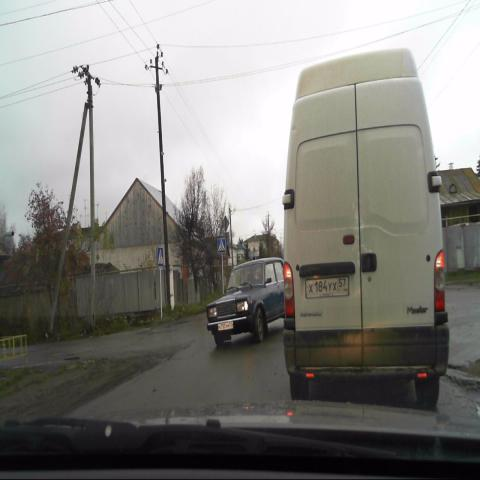5_19_1: (158, 245, 165, 266), (218, 236, 226, 252)
